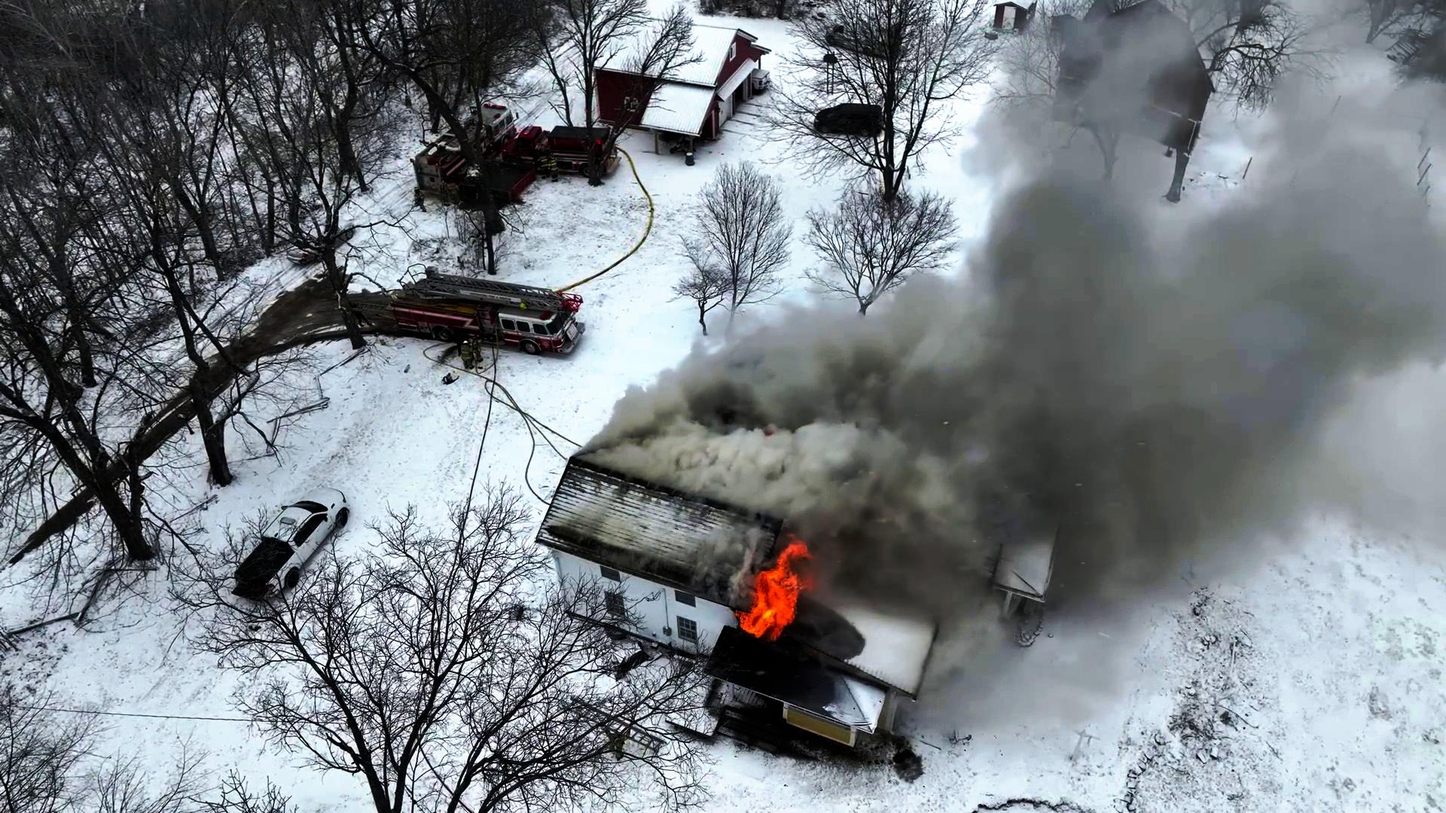fire: (739, 537, 819, 643)
smoke: (655, 381, 1084, 512)
